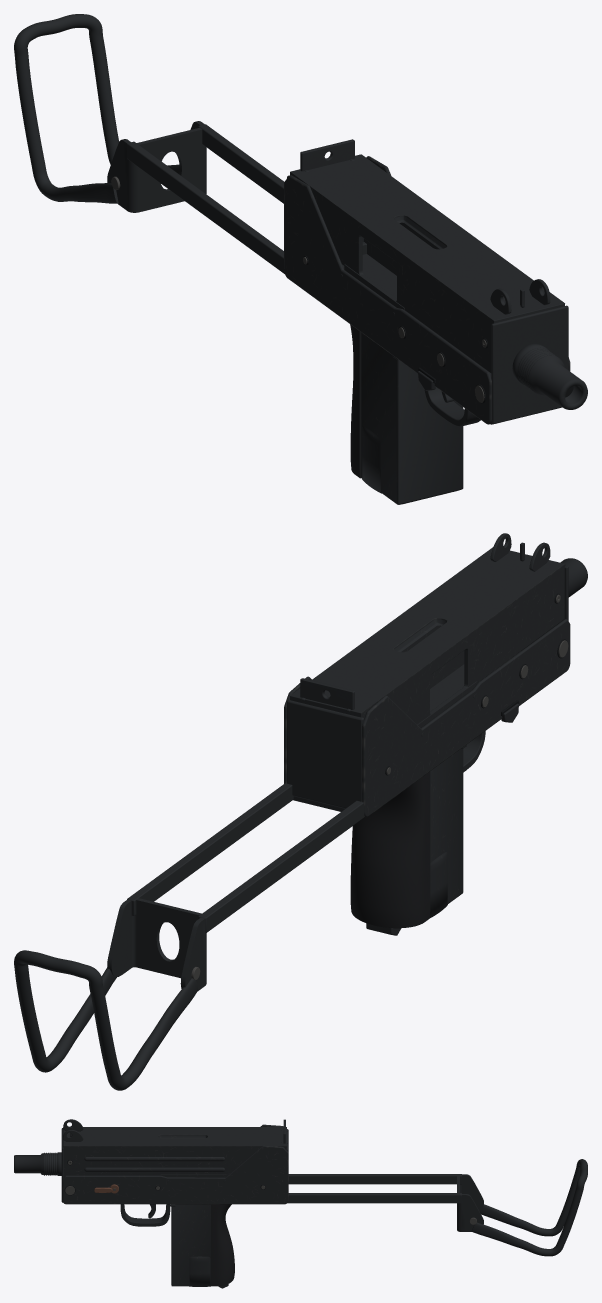
The model's file is SM_MAC10_PumpBody.fbx.
3 views of the same model, one above another, from view 1: azimuth 30°, elevation 25°; view 2: azimuth 150°, elevation 25°; view 3: azimuth 270°, elevation 25° (orthographic). The views are drawn at different scales.
Visible parts, largest first — view 1: SM_MAC10_PumpBody; view 2: SM_MAC10_PumpBody; view 3: SM_MAC10_PumpBody.
Part boxes in pixels (x1,y1,x2,y2): SM_MAC10_PumpBody: (14,14,587,504); SM_MAC10_PumpBody: (14,533,587,1090); SM_MAC10_PumpBody: (14,1119,587,1288).
Bounding box in the file's own units: 5.61 × 55.8 × 17.21.
